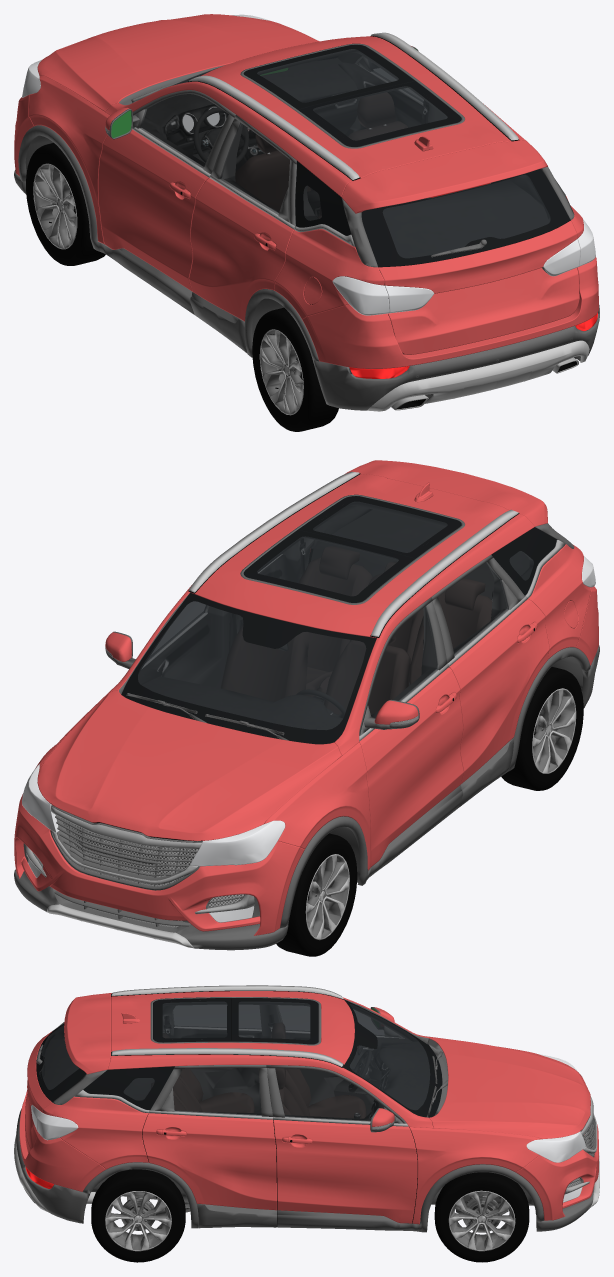
Rendered from traffic_crossover.glb.
3 views of the same model, one above another, from view 1: azimuth 30°, elevation 25°; view 2: azimuth 150°, elevation 25°; view 3: azimuth 270°, elevation 25° (orthographic). The views are drawn at different scales.
Visible parts, largest first — view 1: Body, Wheel_RL, Wheel_FL; view 2: Body, Wheel_RL, Wheel_FL; view 3: Body, Wheel_RR, Wheel_FR.
Boxes of the visible parts, box(x1,y1,x2,y2) form: Body: box(14, 14, 599, 411); Wheel_RL: box(252, 307, 338, 431); Wheel_FL: box(26, 143, 105, 265); Body: box(14, 460, 599, 950); Wheel_RL: box(501, 667, 583, 790); Wheel_FL: box(276, 833, 357, 956); Body: box(14, 985, 599, 1232); Wheel_RR: box(91, 1169, 185, 1262); Wheel_FR: box(434, 1172, 529, 1262).
Size of the model in its own units: 2.12 by 1.73 by 4.59.
Materials: 19 (4 with a texture image).
